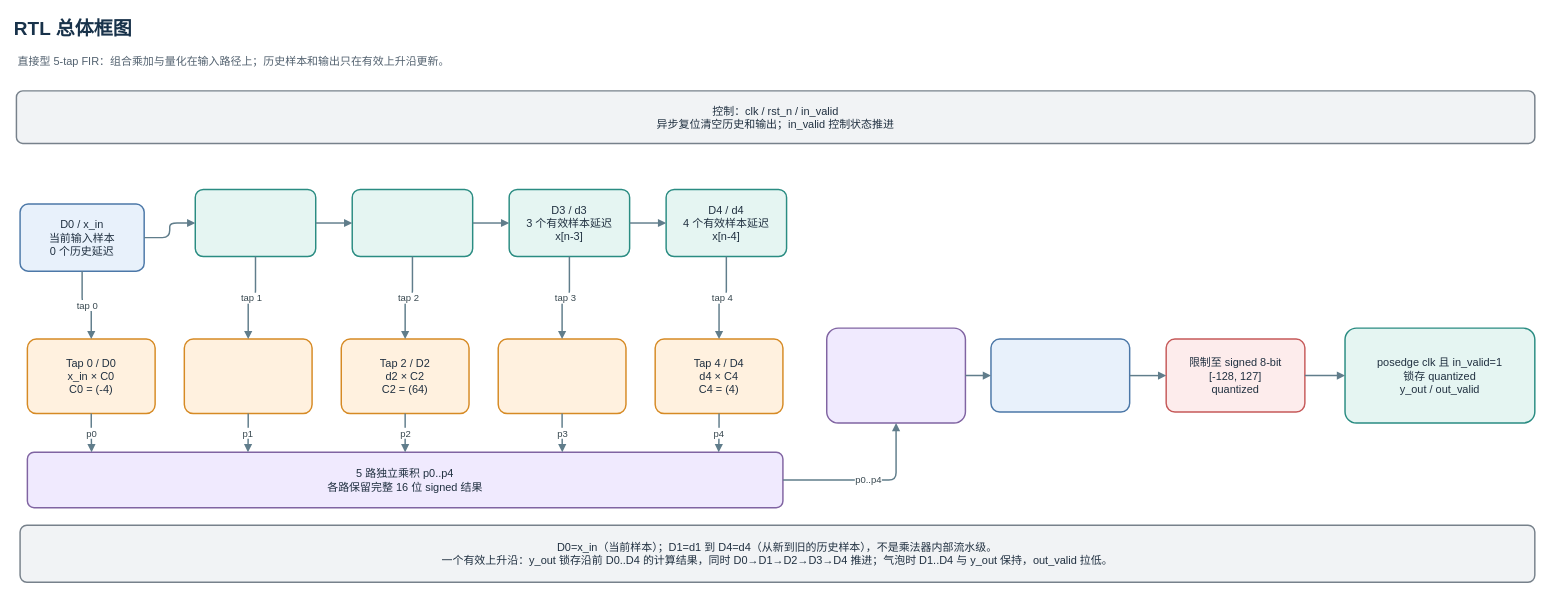
This 1565x595 diagram has some shape labels left out. Each missing label, with the centre of its shape:
D1 / d1 1 个有效样本延迟 x[n-1]: pixel 255 222
D2 / d2 2 个有效样本延迟 x[n-2]: pixel 412 222
Tap 1 / D1 d1 × C1 C1 = (-12): pixel 247 376
Tap 3 / D3 d3 × C3 C3 = (-16): pixel 561 376
符号扩展至 19 位 五路求和得到 acc: pixel 896 375
算术右移 FRAC=6 负数保留符号 shifted: pixel 1060 375
